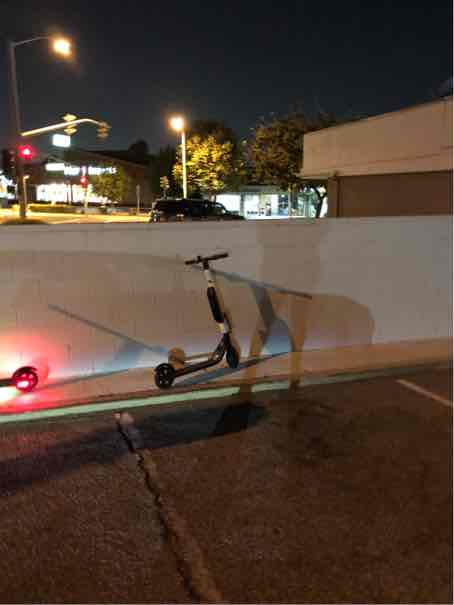scooter: (25, 245, 260, 431), (146, 244, 264, 381)
